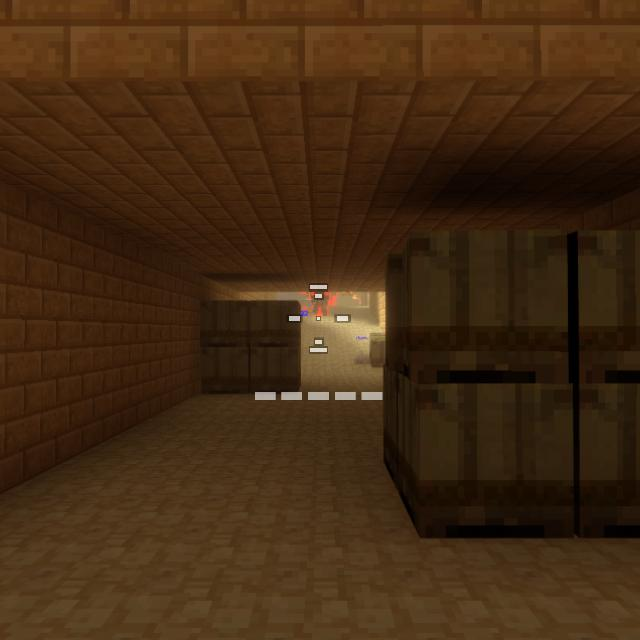Enemy: (311, 292, 329, 316)
